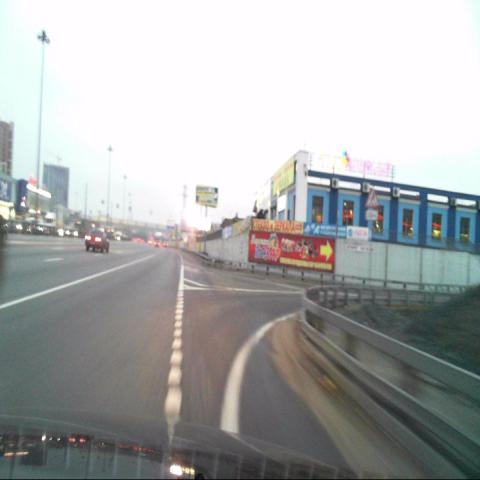1_22: (366, 187, 378, 208)
